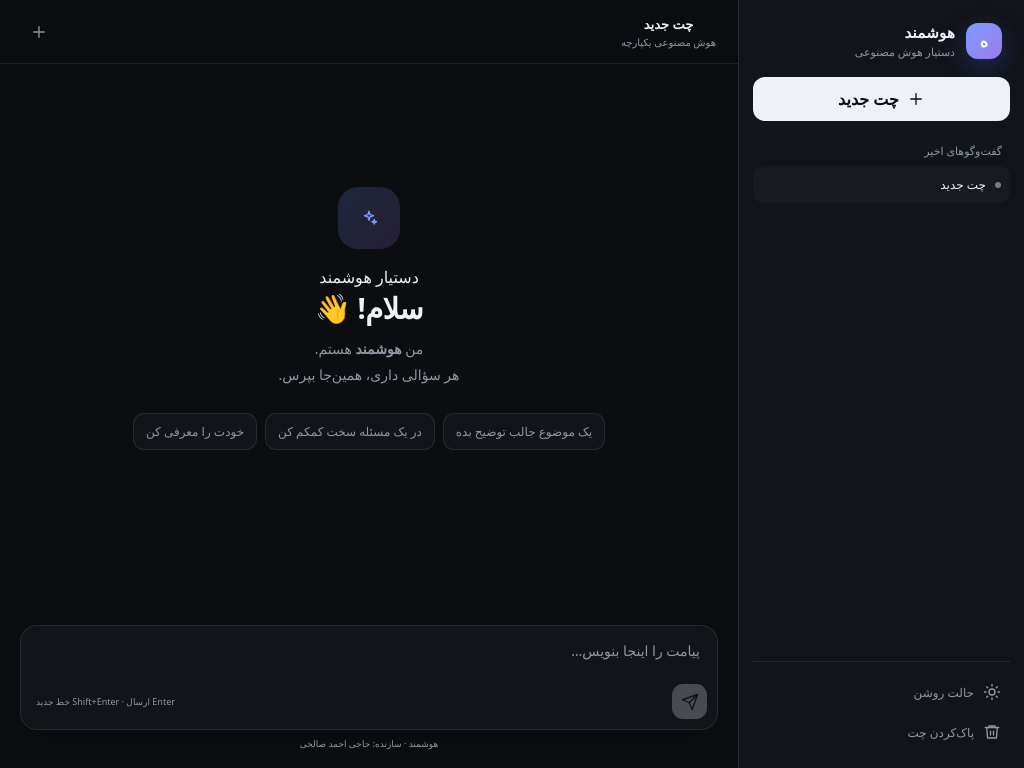
Test case: هوشمند web chat › sends the current conversation to the real chat API
The image size is (1024, 768).
In the text box with placeholder "پیامت را اینجا بنویس…": (369, 653) [21,626,717,680], type "سلام"
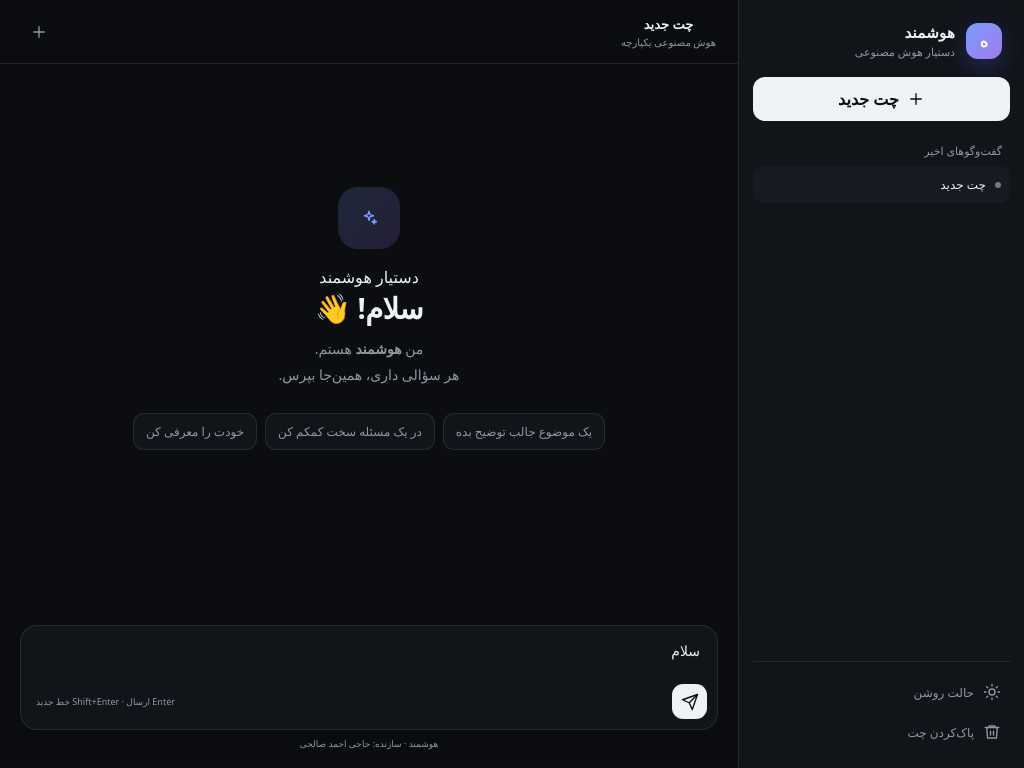
Submit the form with placeholder "پیامت را اینجا بنویس…", box [0,625,738,767]
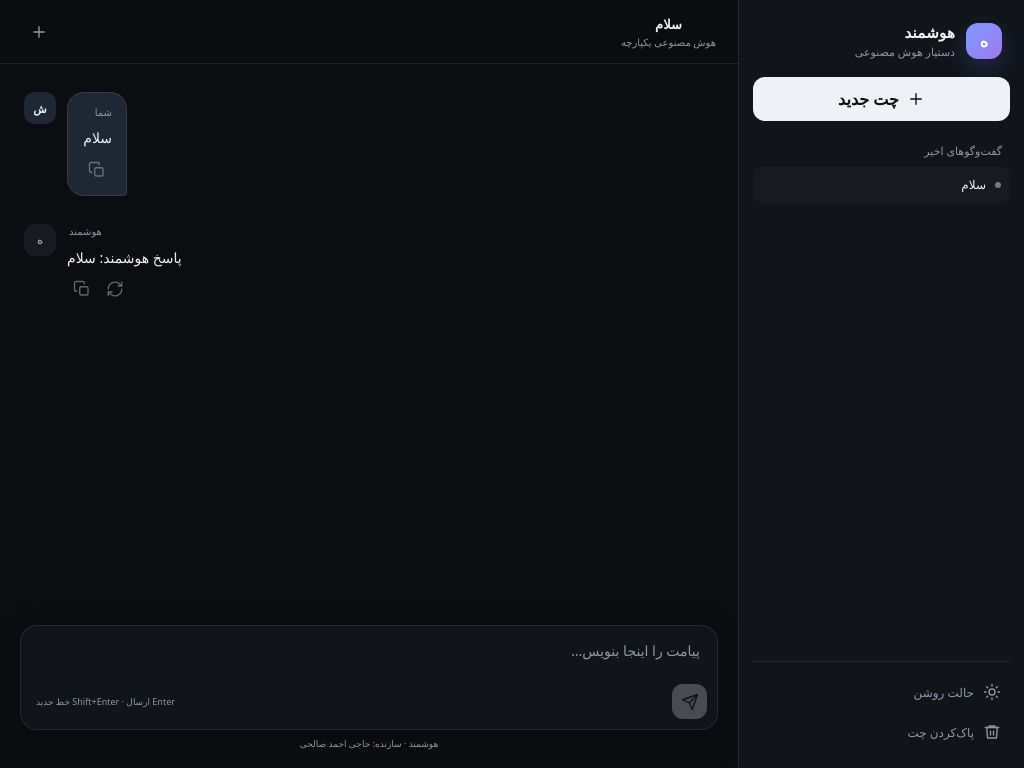
Result: the text "پاسخ هوشمند: سلام" is shown at [67,244,182,270]
